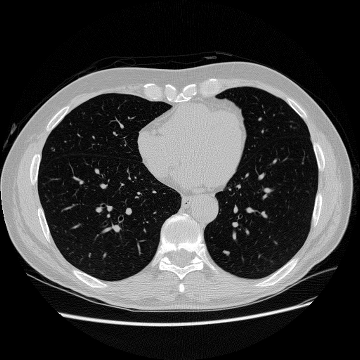nodule: (224, 250, 228, 254)
